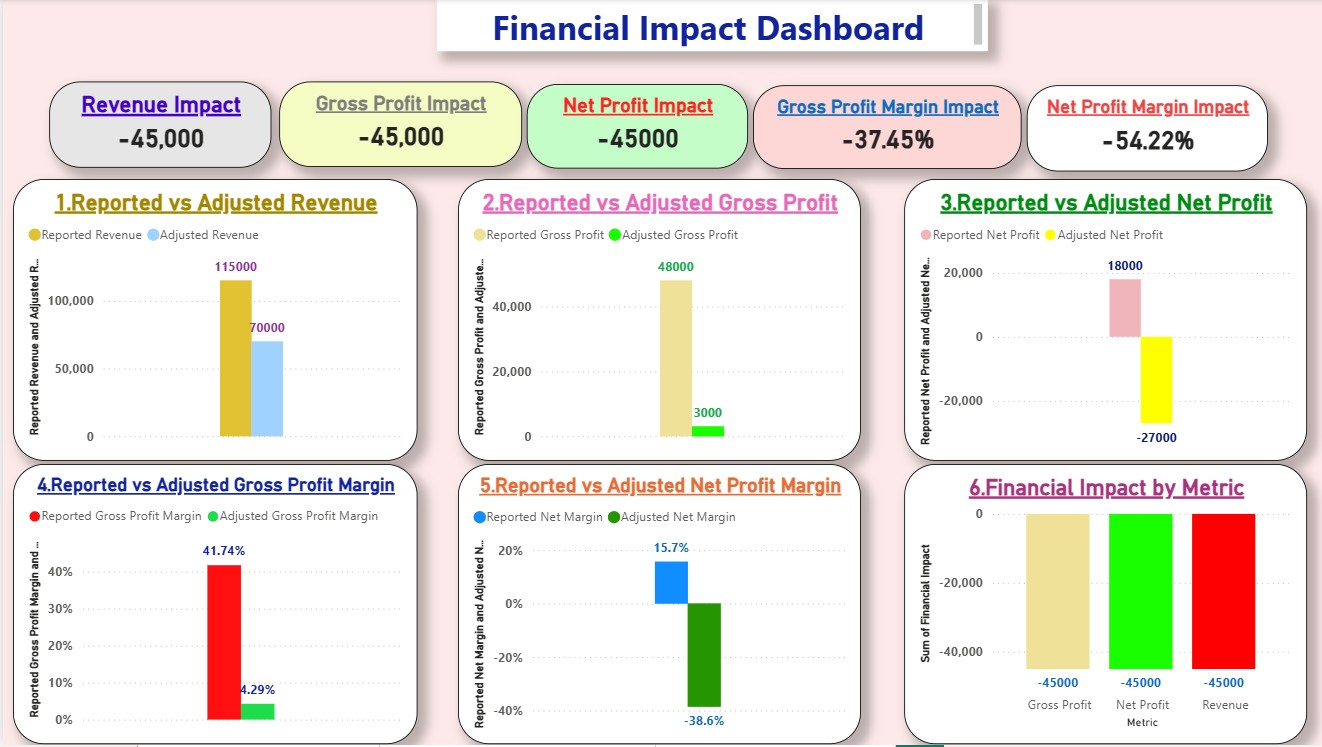

The dashboard page shown, as its layout file describes it:
{"tool":"powerbi","page":{"name":"Financial Impact Dashboard","canvas":[1280,720],"ordinal":2},"visuals":[{"type":"textbox","box":[418.1,0,531.8,50.7],"z":0},{"type":"card","title":"Revenue Impact ","fields":{"Values":["Measures (2).Revenue Impact"]},"box":[44.6,79.6,214.7,83.2],"z":1000},{"type":"card","title":"Gross Profit Impact","fields":{"Values":["Measures (2).Gross Profit Impact"]},"box":[266.6,79.6,234,82],"z":2000},{"type":"card","title":"Net Profit Impact","fields":{"Values":["Measures (2).Net Profit Impact"]},"box":[505.2,81.5,213.6,81.5],"z":3000},{"type":"card","title":"Gross Profit Margin Impact","fields":{"Values":["Measures (2).Gross Profit Margin Impact"]},"box":[723.9,83.2,259.4,80.8],"z":4000},{"type":"card","title":"Net Profit Margin Impact","fields":{"Values":["Measures (2).Net Profit Margin Impact"]},"box":[988.1,83.2,232.8,83.2],"z":5000},{"type":"clusteredColumnChart","title":"1.Reported vs Adjusted Revenue","fields":{"Y":["Measures (2).Reported Revenue","Measures (2).Adjusted Revenue"]},"box":[9.2,174.1,390.4,272],"z":6000},{"type":"clusteredColumnChart","title":"2.Reported vs Adjusted Gross Profit","fields":{"Y":["Measures (2).Reported Gross Profit","Measures (2).Adjusted Gross Profit"]},"box":[439.6,174.1,388.9,272],"z":7000},{"type":"clusteredColumnChart","title":"3.Reported vs Adjusted Net Profit","fields":{"Y":["Measures (2).Reported Net Profit","Measures (2).Adjusted Net Profit"]},"box":[869.9,174.1,388.9,272],"z":8000},{"type":"clusteredColumnChart","title":"4.Reported vs Adjusted Gross Profit Margin","fields":{"Y":["Measures (2).Reported Gross Profit Margin","Measures (2).Adjusted Gross Profit Margin"]},"box":[9.2,448.8,390.4,270.5],"z":9000},{"type":"clusteredColumnChart","title":"5.Reported vs Adjusted Net Profit Margin","fields":{"Y":["Measures (2).Reported Net Margin","Measures (2).Adjusted Net Margin"]},"box":[439.6,448.8,388.9,270.5],"z":10000},{"type":"clusteredColumnChart","title":"6.Financial Impact by Metric","fields":{"Y":["Sum(PowerBI_Impact.Financial Impact)"],"Category":["PowerBI_Impact.Metric"]},"box":[869.9,448.8,388.9,270.5],"z":11000}]}

Visuals, with their boxes in screenshot pixels (x1, y1, x2, y2), scaled from the page's 1280x720 canvas onto the 1322x747 screenshot:
textbox: (432, 0, 981, 53)
"Revenue Impact " card: (46, 83, 268, 169)
"Gross Profit Impact" card: (275, 83, 517, 168)
"Net Profit Impact" card: (522, 85, 742, 169)
"Gross Profit Margin Impact" card: (748, 86, 1016, 170)
"Net Profit Margin Impact" card: (1021, 86, 1261, 173)
"1.Reported vs Adjusted Revenue" clusteredColumnChart: (10, 181, 413, 463)
"2.Reported vs Adjusted Gross Profit" clusteredColumnChart: (454, 181, 856, 463)
"3.Reported vs Adjusted Net Profit" clusteredColumnChart: (898, 181, 1300, 463)
"4.Reported vs Adjusted Gross Profit Margin" clusteredColumnChart: (10, 466, 413, 746)
"5.Reported vs Adjusted Net Profit Margin" clusteredColumnChart: (454, 466, 856, 746)
"6.Financial Impact by Metric" clusteredColumnChart: (898, 466, 1300, 746)
